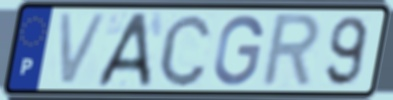9: (324, 15, 371, 89)
A: (94, 10, 154, 89)
C: (156, 11, 214, 89)
G: (211, 13, 266, 88)
R: (257, 11, 323, 91)
V: (56, 10, 112, 88)
